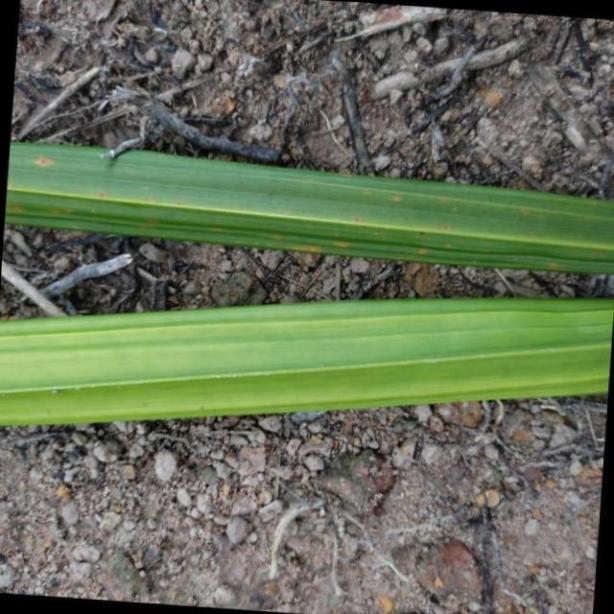nitrogen: (9, 145, 614, 276), (0, 296, 614, 425)
